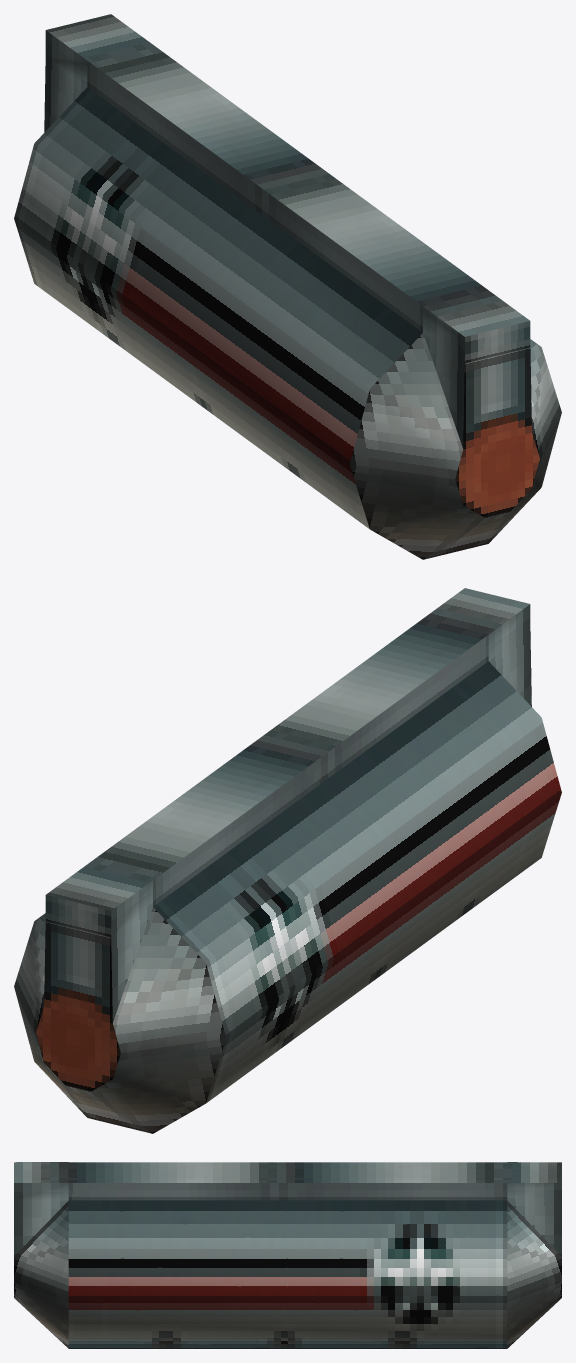
The model's file is utl12.obj.
3 views of the same model, one above another, from view 1: azimuth 30°, elevation 25°; view 2: azimuth 150°, elevation 25°; view 3: azimuth 270°, elevation 25° (orthographic). The views are drawn at different scales.
Visible parts, largest first — view 1: frm-fuselg; view 2: frm-fuselg; view 3: frm-fuselg.
Boxes of the visible parts, bbox=[...] form: frm-fuselg: bbox=[14, 14, 561, 559]; frm-fuselg: bbox=[14, 588, 561, 1133]; frm-fuselg: bbox=[14, 1162, 561, 1348].
Size of the model in its own units: 7.08 by 8.08 by 24.21.
4 materials, 4 textured.
